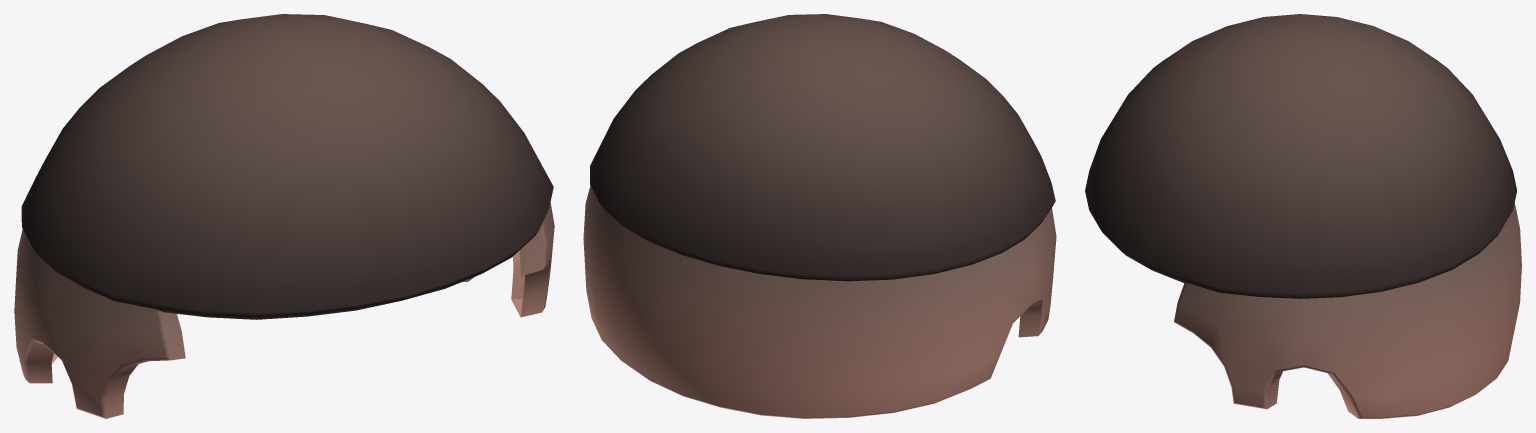
The model's file is Hairstyle_Male_15.glb.
The picture shows the model from 3 angles, left to right: view 1: azimuth 30°, elevation 25°; view 2: azimuth 150°, elevation 25°; view 3: azimuth 270°, elevation 25°; orthographic projection. The views are drawn at different scales.
Visible parts, largest first — view 1: Hairstyle_Male_15; view 2: Hairstyle_Male_15; view 3: Hairstyle_Male_15.
Part boxes in pixels (box(x1,y1,x2,y2)): Hairstyle_Male_15: box(14, 14, 554, 418); Hairstyle_Male_15: box(583, 14, 1056, 418); Hairstyle_Male_15: box(1085, 14, 1521, 418).
Bounding box in the file's own units: 0.6002 × 0.402 × 0.5191.
1 material, 1 textured.
